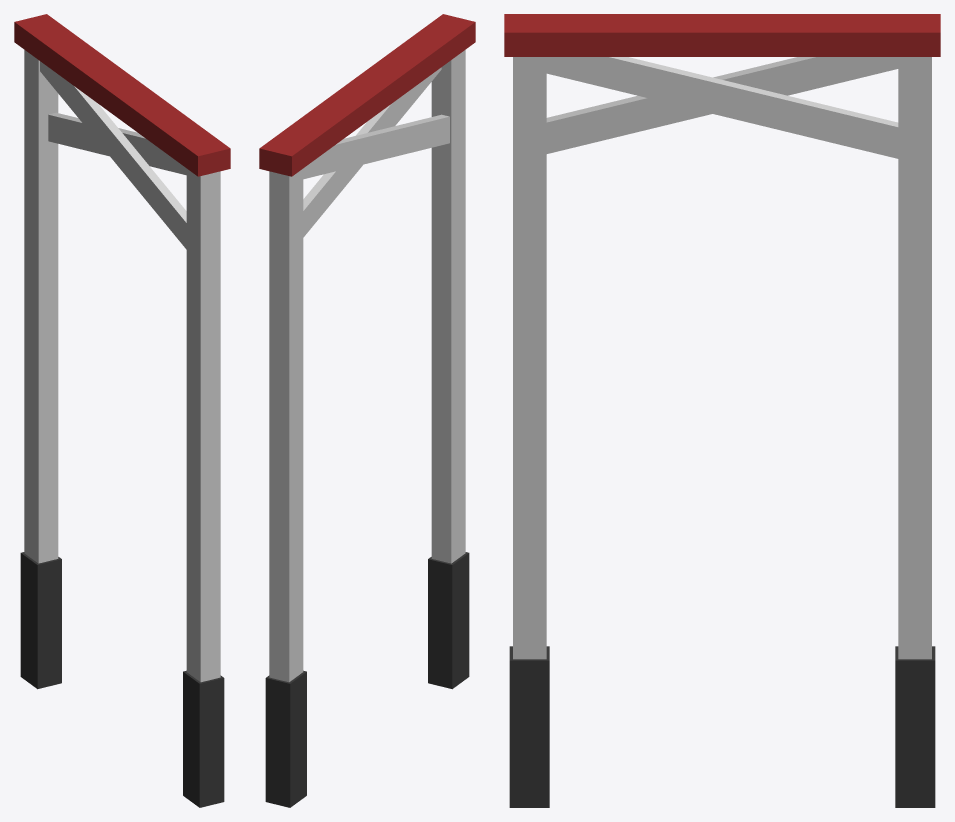
The model's file is Asian_Prop_Bridge_Support_Beam_01.FBX.
3 renders of one model, left to right at view 1: azimuth 30°, elevation 25°; view 2: azimuth 150°, elevation 25°; view 3: azimuth 270°, elevation 25°, orthographic. The views are drawn at different scales.
Parts seen in each view (by area): view 1: Asian_Prop_Bridge_Support_Beam_01; view 2: Asian_Prop_Bridge_Support_Beam_01; view 3: Asian_Prop_Bridge_Support_Beam_01.
Boxes of the visible parts, x1,y1,x2,y2 form: Asian_Prop_Bridge_Support_Beam_01: (14, 14, 230, 807); Asian_Prop_Bridge_Support_Beam_01: (259, 14, 475, 807); Asian_Prop_Bridge_Support_Beam_01: (504, 14, 940, 807).
Size of the model in its own units: 379 by 7304 by 3717.
